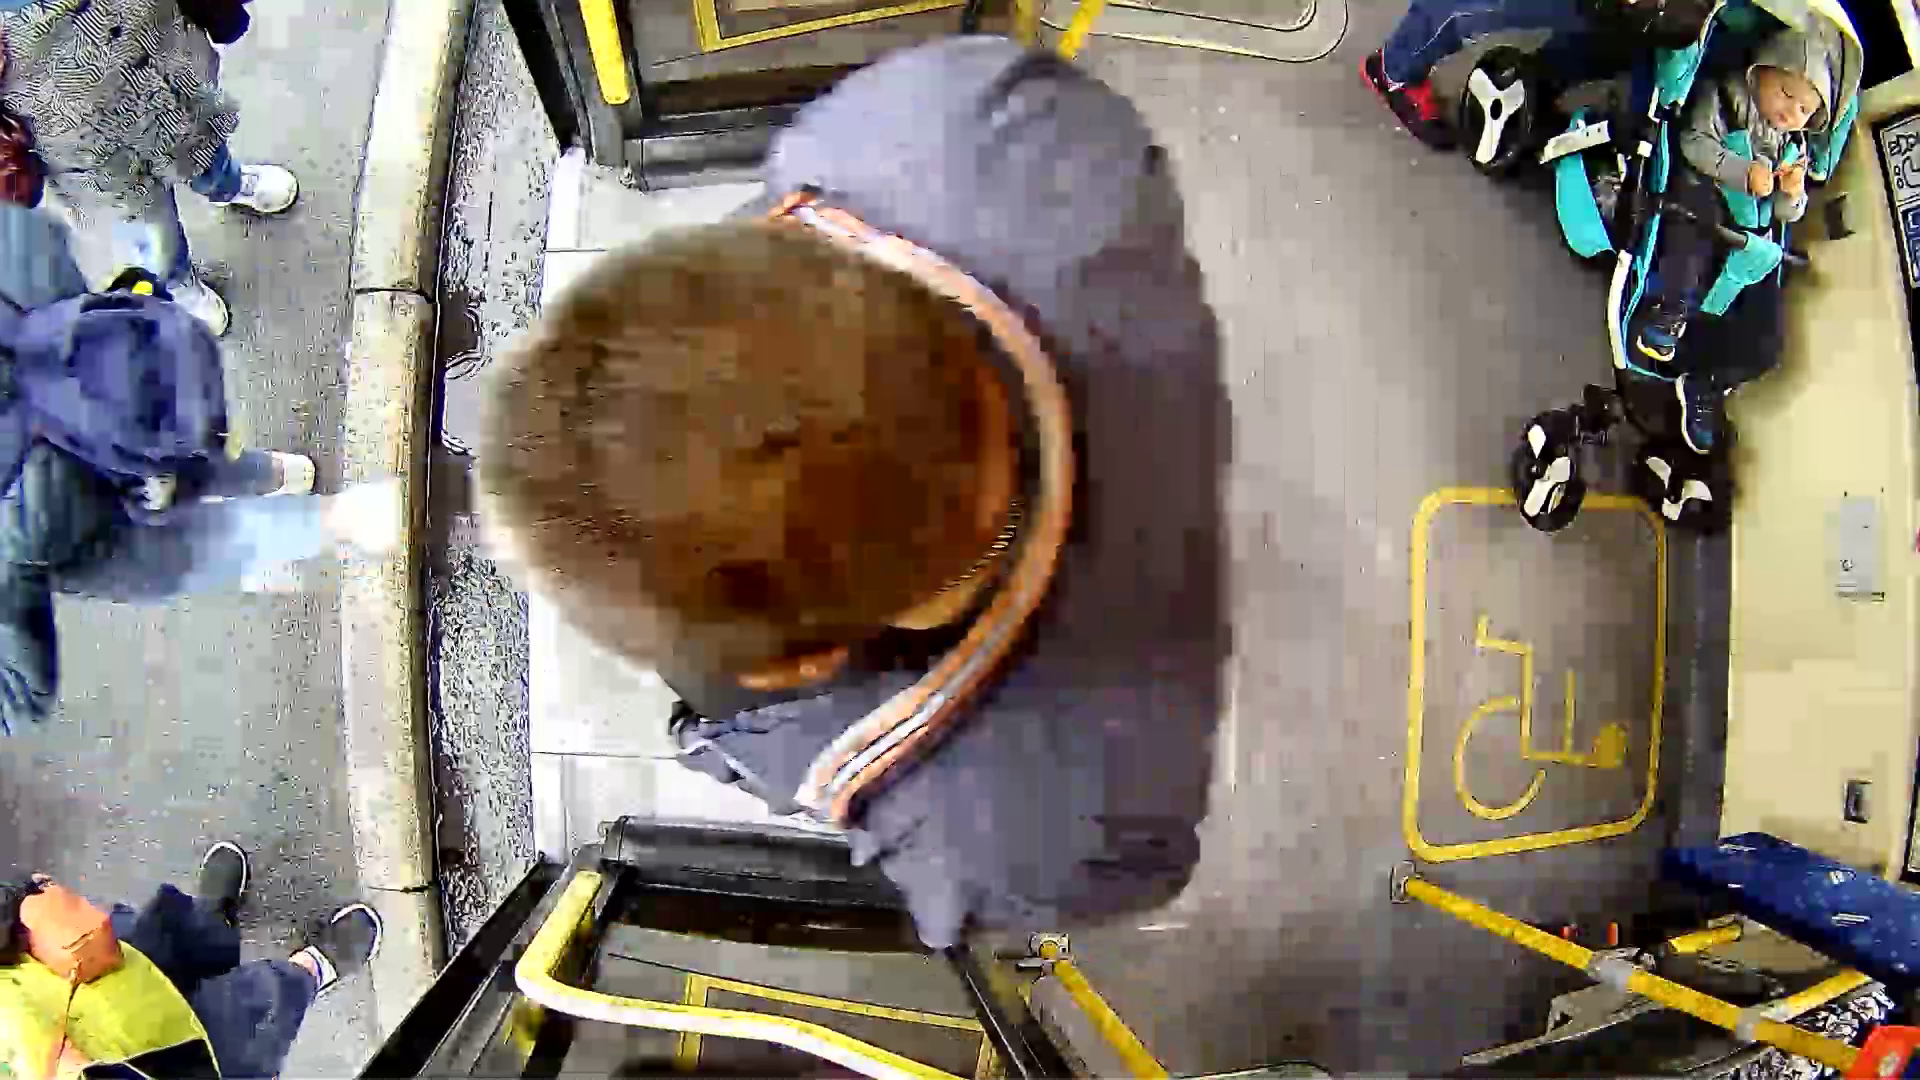person: (450, 83, 1311, 956)
